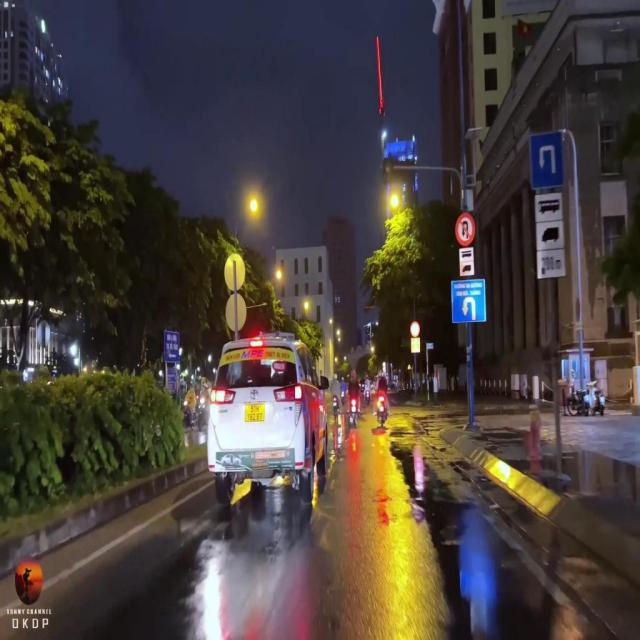cam_quay_dau_xe: (454, 213, 475, 246)
cho_quay_xe: (530, 132, 564, 190), (462, 295, 477, 322)
khac: (452, 280, 486, 322), (536, 221, 564, 252), (537, 250, 566, 278), (535, 194, 564, 221), (459, 261, 474, 276), (459, 248, 473, 262)
